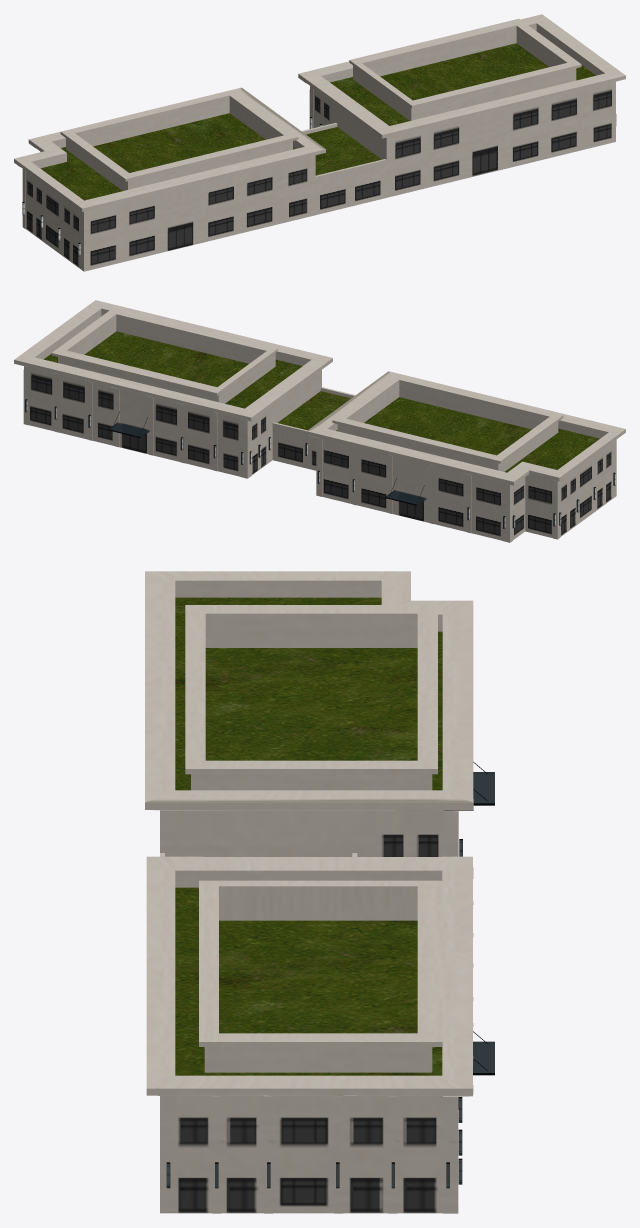
Rendered from builder_5.FBX.
The picture shows the model from 3 angles, top to bottom: view 1: azimuth 30°, elevation 25°; view 2: azimuth 150°, elevation 25°; view 3: azimuth 270°, elevation 25°; orthographic projection. The views are drawn at different scales.
Visible parts, largest first — view 1: builder_5; view 2: builder_5; view 3: builder_5.
Boxes of the visible parts, x1,y1,x2,y2 form: builder_5: [14, 14, 625, 271]; builder_5: [14, 300, 625, 542]; builder_5: [145, 571, 494, 1213].
Size of the model in its own units: 96833 by 12950 by 27704.
